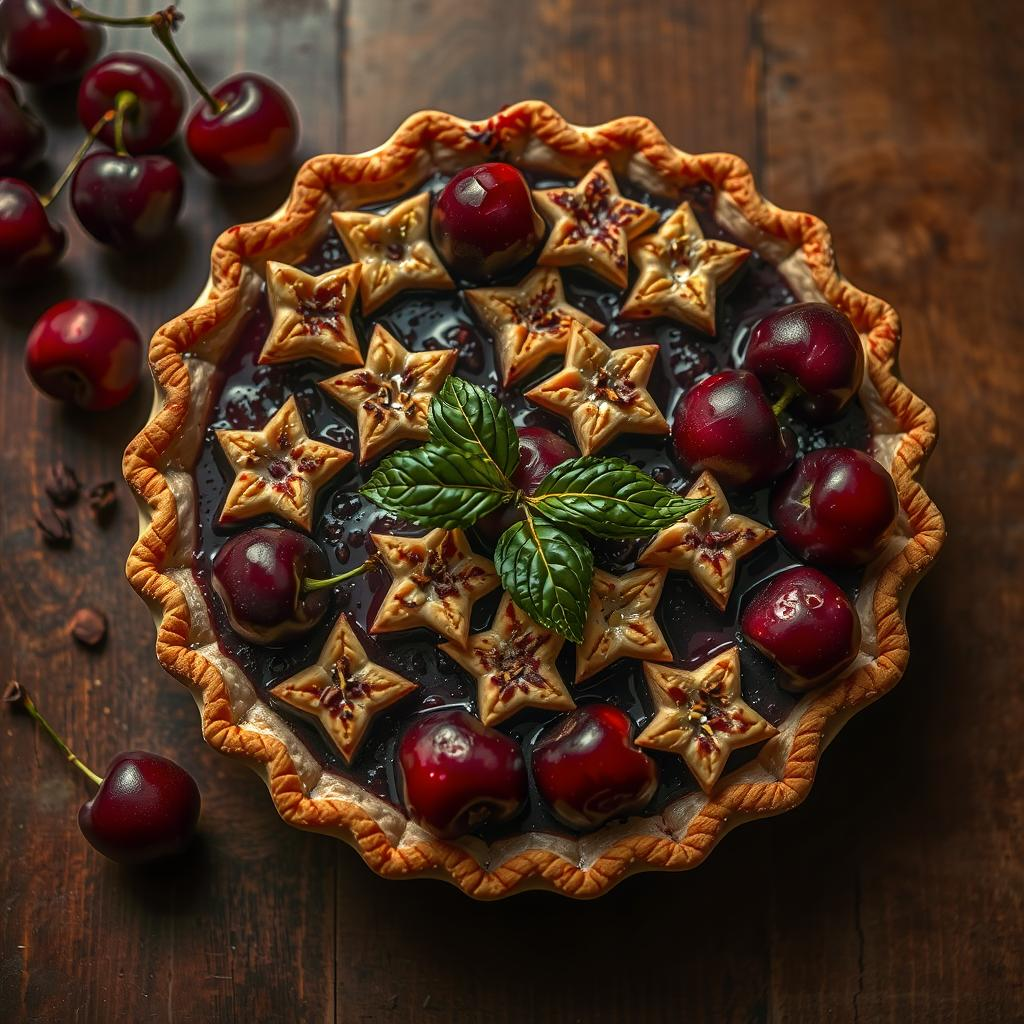pie: (111, 94, 951, 907)
